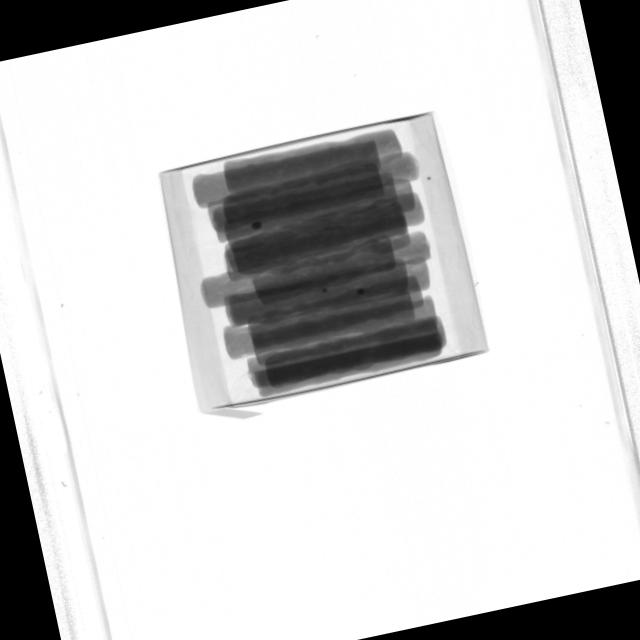ym: (251, 220, 262, 230), (355, 287, 364, 296), (320, 287, 328, 294), (426, 177, 431, 181)
